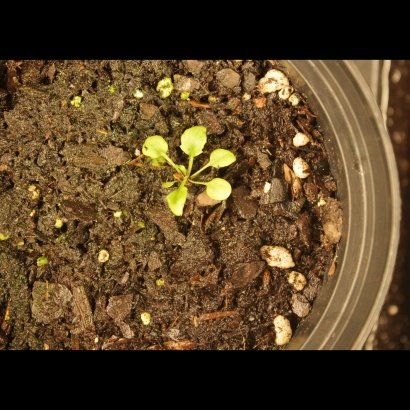leaf: (174, 120, 209, 158), (167, 174, 194, 219), (134, 131, 170, 163), (209, 141, 242, 172), (202, 176, 236, 205)
